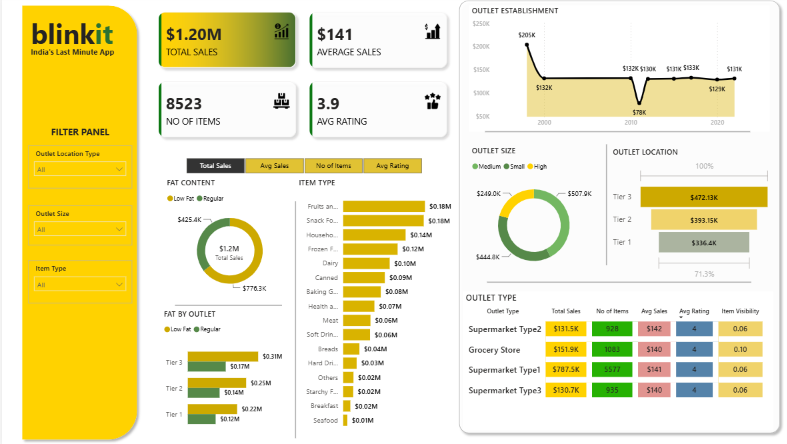

What the dashboard file says about the page in this screenshot:
{"tool":"powerbi","page":{"name":"Page 1","canvas":[1400,800],"ordinal":0},"visuals":[{"type":"shape","box":[26.8,8,221.2,785.5],"z":0},{"type":"textbox","box":[45.6,28.2,171.6,111.3],"z":1000},{"type":"textbox","box":[45.6,84.5,171.6,45.6],"z":2000},{"type":"cardVisual","fields":{"Data":["Sum(BlinkIT Grocery Data.Total Sales)","BlinkIT Grocery Data.Avg Sales","BlinkIT Grocery Data.No of Items","BlinkIT Grocery Data.Avg Rating"]},"box":[248,0,569.7,281.5],"z":3000},{"type":"shape","box":[798.8,0,585,782.9],"z":4000},{"type":"slicer","fields":{"Values":["Metrics.Metrics"]},"box":[300.3,281.5,465.1,40.2],"z":5000},{"type":"donutChart","title":"FAT CONTENT","fields":{"Y":["BlinkIT Grocery Data.Total Sales"],"Category":["BlinkIT Grocery Data.Item Fat Content"]},"box":[285.5,321.7,231.9,214.5],"z":6000},{"type":"cardVisual","fields":{"Data":["BlinkIT Grocery Data.Total Sales"]},"box":[341.8,415.6,122,77.7],"z":7000},{"type":"clusteredBarChart","title":"FAT BY OUTLET","fields":{"Y":["BlinkIT Grocery Data.Total Sales"],"Category":["BlinkIT Grocery Data.Outlet Location Type"],"Series":["BlinkIT Grocery Data.Item Fat Content"]},"box":[281,553.2,219.2,229.8],"z":8000},{"type":"shape","box":[468.3,364.1,100.7,418.9],"z":9000},{"type":"shape","box":[305.8,523.1,189.1,49.5],"z":10000},{"type":"barChart","title":"ITEM TYPE","fields":{"Y":["BlinkIT Grocery Data.Total Sales"],"Category":["BlinkIT Grocery Data.Item Type"]},"box":[519.6,321.7,279.2,454.2],"z":11000},{"type":"donutChart","title":"OUTLET SIZE","fields":{"Y":["BlinkIT Grocery Data.Total Sales"],"Category":["BlinkIT Grocery Data.Outlet Size"]},"box":[824.8,265,228.6,236.8],"z":12000},{"type":"lineChart","title":"OUTLET ESTABLISHMENT","fields":{"Y":["BlinkIT Grocery Data.Total Sales"],"Category":["BlinkIT Grocery Data.Outlet Establishment Year"]},"box":[824.8,18.2,531.6,223.6],"z":13000},{"type":"shape","box":[1056.9,263.3,23,213.8],"z":14000},{"type":"funnel","title":"OUTLET LOCATION","fields":{"Y":["Sum(BlinkIT Grocery Data.Sales)"],"Category":["BlinkIT Grocery Data.Outlet Location Type"]},"box":[1074.8,266.6,288.2,240.1],"z":15000},{"type":"shape","box":[852.9,210.3,468.7,61.3],"z":16000},{"type":"shape","box":[857.9,477,467,59.6],"z":17000},{"type":"pivotTable","title":"OUTLET TYPE","fields":{"Values":["BlinkIT Grocery Data.Total Sales","BlinkIT Grocery Data.No of Items","BlinkIT Grocery Data.Avg Sales","BlinkIT Grocery Data.Avg Rating","Avg(BlinkIT Grocery Data.Item Visibility)"],"Rows":["BlinkIT Grocery Data.Outlet Type"]},"box":[814.7,523.1,547.9,245.7],"z":18000},{"type":"slicer","fields":{"Values":["BlinkIT Grocery Data.Outlet Location Type"]},"box":[46,265.1,183.8,76],"z":19000},{"type":"slicer","fields":{"Values":["BlinkIT Grocery Data.Outlet Size"]},"box":[46,371.1,183.8,70.7],"z":20000},{"type":"slicer","fields":{"Values":["BlinkIT Grocery Data.Item Type"]},"box":[46,468.3,183.8,76],"z":21000},{"type":"textbox","box":[46.4,223.6,183.8,39.7],"z":21001}]}

Visuals, with their boxes in screenshot pixels (x1, y1, x2, y2), scaled from the page's 1400x800 canvas onto the 787x444 screenshot:
shape: [15, 4, 139, 440]
textbox: [26, 16, 122, 77]
textbox: [26, 47, 122, 72]
cardVisual - Sum(BlinkIT Grocery Data.Total Sales) x BlinkIT Grocery Data.Avg Sales: [139, 0, 460, 156]
shape: [449, 0, 778, 435]
slicer - Metrics.Metrics: [169, 156, 430, 179]
"FAT CONTENT" donutChart: [160, 179, 291, 298]
cardVisual - BlinkIT Grocery Data.Total Sales: [192, 231, 261, 274]
"FAT BY OUTLET" clusteredBarChart: [158, 307, 281, 435]
shape: [263, 202, 320, 435]
shape: [172, 290, 278, 318]
"ITEM TYPE" barChart: [292, 179, 449, 431]
"OUTLET SIZE" donutChart: [464, 147, 592, 278]
"OUTLET ESTABLISHMENT" lineChart: [464, 10, 762, 134]
shape: [594, 146, 607, 265]
"OUTLET LOCATION" funnel: [604, 148, 766, 281]
shape: [479, 117, 743, 151]
shape: [482, 265, 745, 298]
"OUTLET TYPE" pivotTable: [458, 290, 766, 427]
slicer - BlinkIT Grocery Data.Outlet Location Type: [26, 147, 129, 189]
slicer - BlinkIT Grocery Data.Outlet Size: [26, 206, 129, 245]
slicer - BlinkIT Grocery Data.Item Type: [26, 260, 129, 302]
textbox: [26, 124, 129, 146]
